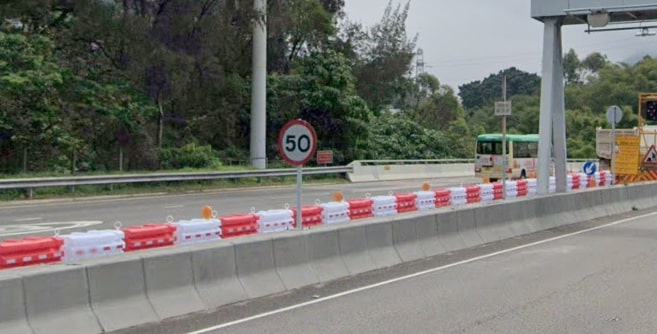Speed Limit: (276, 120, 318, 167)
